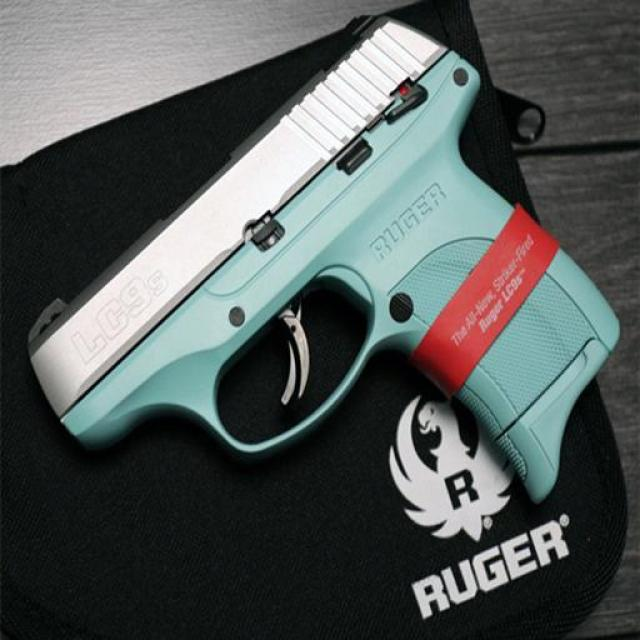pistol: (20, 15, 610, 527)
